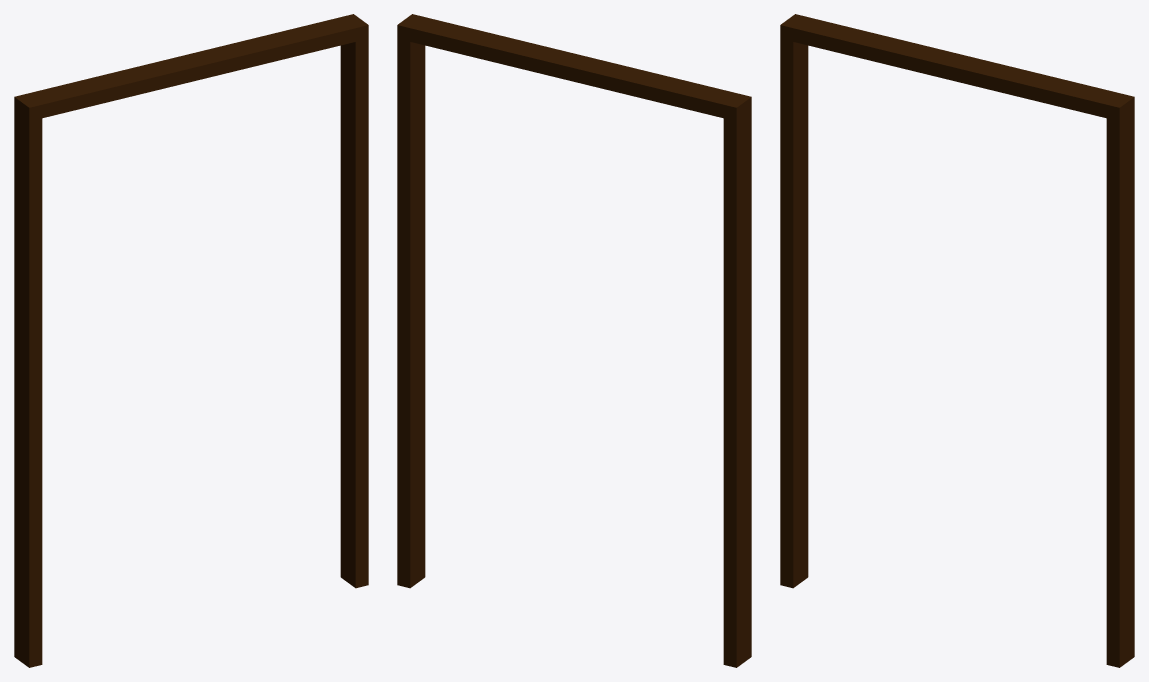
File: Door00-Frame.gltf
3 views of the same model, side by side, from view 1: azimuth 30°, elevation 25°; view 2: azimuth 150°, elevation 25°; view 3: azimuth 330°, elevation 25° (orthographic).
Parts seen in each view (by area): view 1: Frame; view 2: Frame; view 3: Frame.
Boxes of the visible parts, x1,y1,x2,y2 form: Frame: (14,14,368,667); Frame: (397,14,751,667); Frame: (780,14,1134,667).
Bounding box in the file's own units: 26 × 41 × 2.
